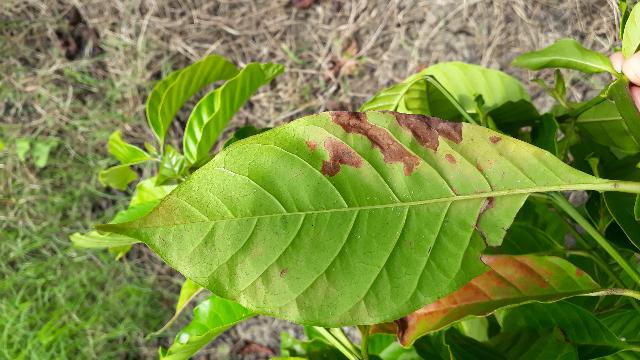red_spider_mite: (30, 29, 556, 253)
